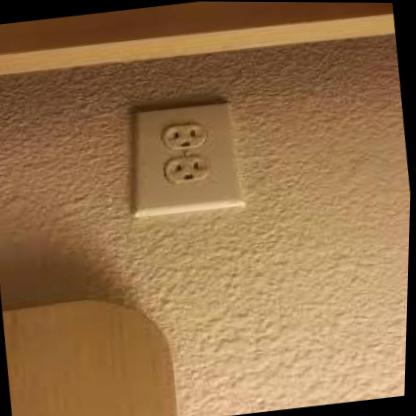OUTLET: (120, 98, 244, 218)
